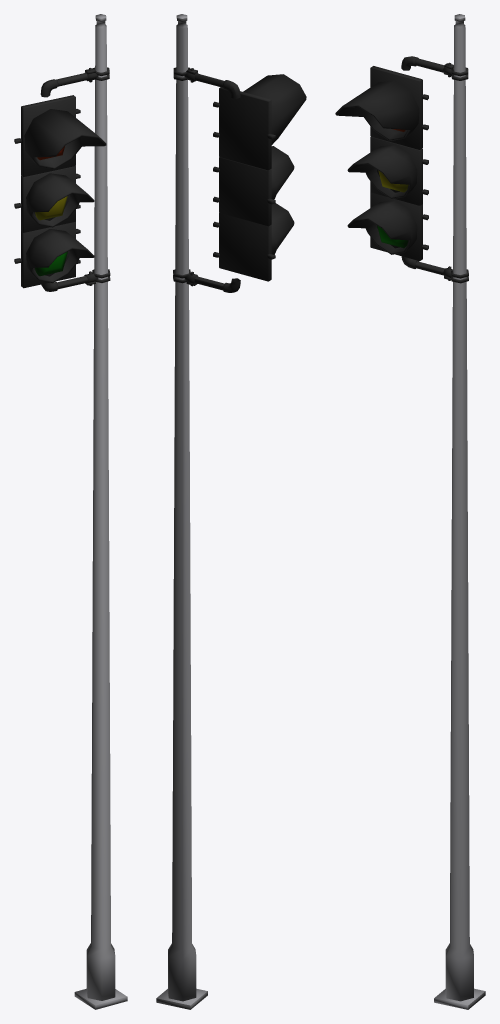
3 views of the same model, side by side, from view 1: azimuth 30°, elevation 25°; view 2: azimuth 150°, elevation 25°; view 3: azimuth 330°, elevation 25° (orthographic).
Visible parts, largest first — view 1: base.032; view 2: base.032; view 3: base.032.
Part boxes in pixels (x1,y1,x2,y2): base.032: (14, 14, 127, 1009); base.032: (156, 14, 306, 1009); base.032: (335, 14, 485, 1009).
Bounding box in the file's own units: 0.0571 × 0.5 × 0.0477.
